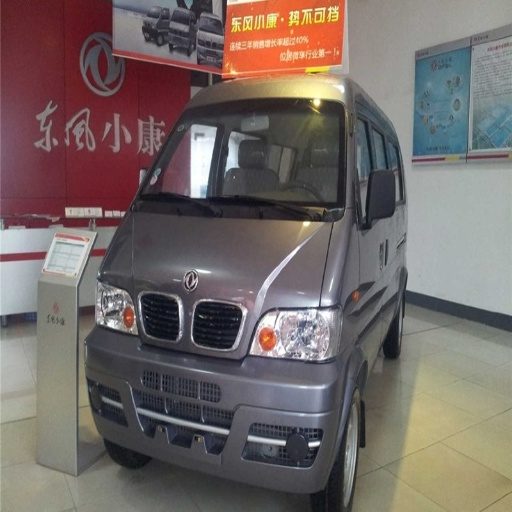front_bumper: (86, 283, 348, 490)
front_glass: (141, 100, 345, 220)
front_left_door: (359, 200, 382, 295)
front_right_light: (96, 275, 137, 334)
